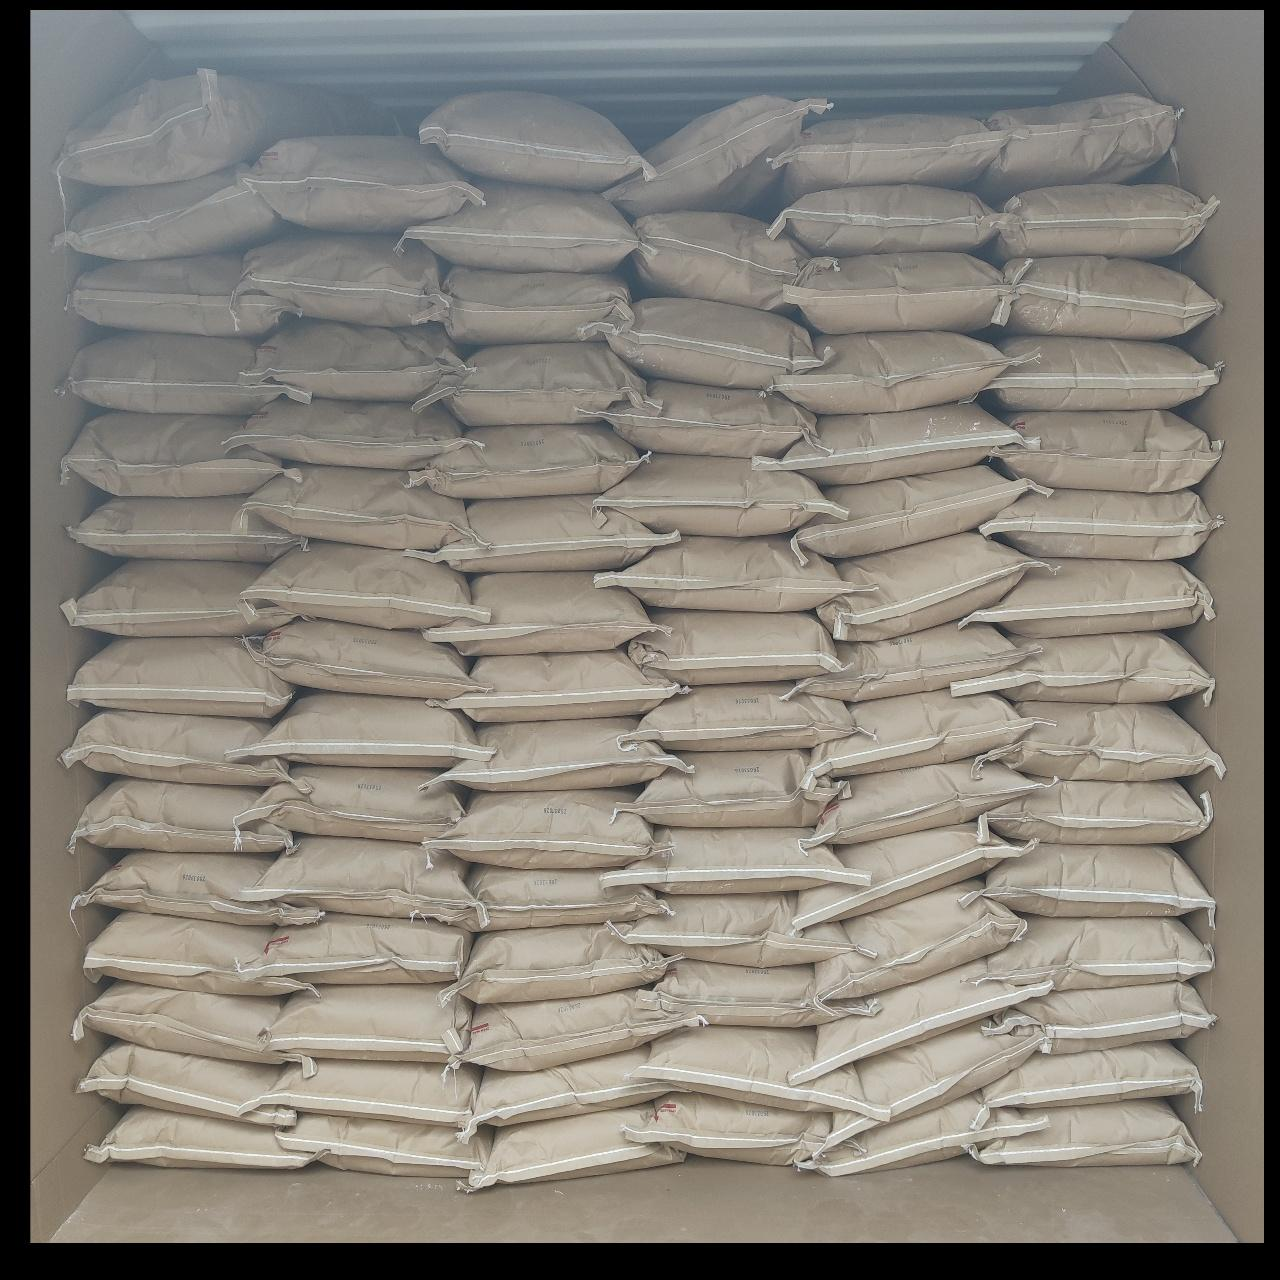sack: (817, 1022, 1044, 1156), (792, 964, 1048, 1082), (57, 68, 302, 186), (604, 96, 828, 215), (794, 822, 1036, 926), (818, 535, 1051, 638), (813, 884, 1024, 998), (794, 467, 1048, 558), (802, 692, 1046, 787), (754, 402, 1036, 482), (420, 91, 646, 190), (246, 136, 481, 230), (802, 758, 1050, 846), (74, 982, 316, 1070), (648, 1028, 884, 1118), (584, 298, 824, 386), (241, 542, 481, 628), (402, 182, 636, 270), (978, 94, 1178, 196), (57, 168, 284, 258), (60, 332, 308, 414), (411, 496, 676, 572), (629, 212, 836, 309), (798, 1094, 1046, 1175), (770, 332, 1016, 411), (84, 912, 316, 996), (787, 622, 1039, 700), (962, 560, 1214, 636), (772, 114, 1008, 195), (772, 254, 1010, 334), (462, 990, 700, 1070), (595, 456, 836, 535), (422, 572, 652, 654), (68, 254, 297, 336), (600, 536, 858, 608), (411, 342, 646, 422), (978, 702, 1223, 778), (241, 234, 445, 326), (425, 719, 685, 790), (248, 467, 470, 550), (234, 692, 484, 765), (68, 638, 294, 719), (64, 411, 286, 493), (74, 852, 320, 926), (954, 632, 1212, 702), (80, 1042, 294, 1126), (462, 1108, 682, 1190), (428, 648, 685, 719), (244, 836, 470, 915), (962, 844, 1214, 915), (226, 399, 478, 470), (998, 256, 1220, 336), (244, 320, 468, 400), (612, 894, 869, 964), (244, 620, 472, 697), (62, 710, 294, 787), (424, 790, 654, 866), (60, 560, 290, 636), (994, 410, 1223, 486), (986, 336, 1220, 410), (604, 377, 821, 456), (408, 424, 646, 496), (72, 778, 294, 855), (982, 488, 1223, 558), (980, 918, 1212, 990), (450, 926, 670, 1002), (414, 864, 668, 930), (238, 765, 464, 838), (996, 184, 1218, 258), (608, 828, 862, 892), (626, 750, 846, 824), (248, 1058, 478, 1128), (983, 983, 1214, 1051), (629, 610, 838, 685), (240, 914, 470, 982), (474, 1048, 672, 1126), (266, 983, 470, 1060), (770, 186, 998, 254), (622, 1092, 835, 1165), (68, 496, 302, 561), (978, 778, 1212, 844), (626, 685, 858, 750), (972, 1099, 1198, 1166), (644, 960, 872, 1026), (438, 266, 629, 342), (275, 1112, 492, 1178), (982, 1042, 1198, 1108), (86, 1108, 309, 1166)
